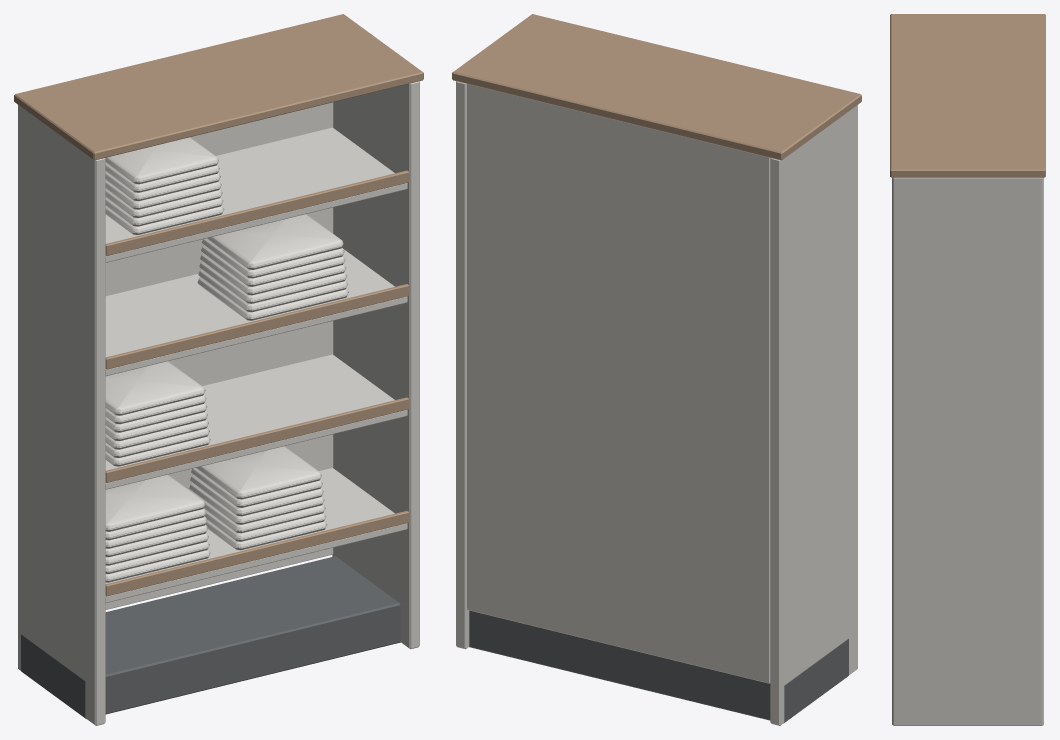
File: linen-store-shelving.glb
3 views of the same model, side by side, from view 1: azimuth 30°, elevation 25°; view 2: azimuth 150°, elevation 25°; view 3: azimuth 270°, elevation 25° (orthographic). The views are drawn at different scales.
Visible parts, largest first — view 1: linen-shelving; view 2: linen-shelving; view 3: linen-shelving.
Part boxes in pixels (x1=…): linen-shelving: x1=14, y1=14, x2=423, y2=725; linen-shelving: x1=452, y1=14, x2=861, y2=725; linen-shelving: x1=890, y1=14, x2=1045, y2=725.
Size of the model in its own units: 1.22 by 2.03 by 0.5139.
